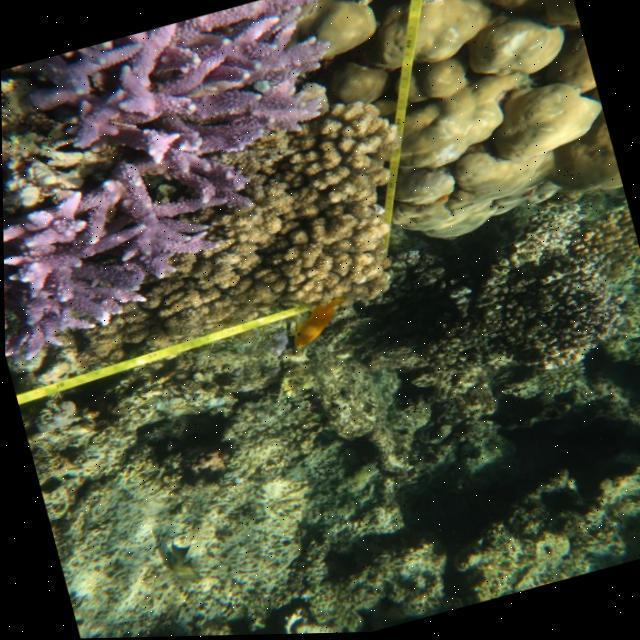Healthy Coral: (0, 1, 394, 366)
